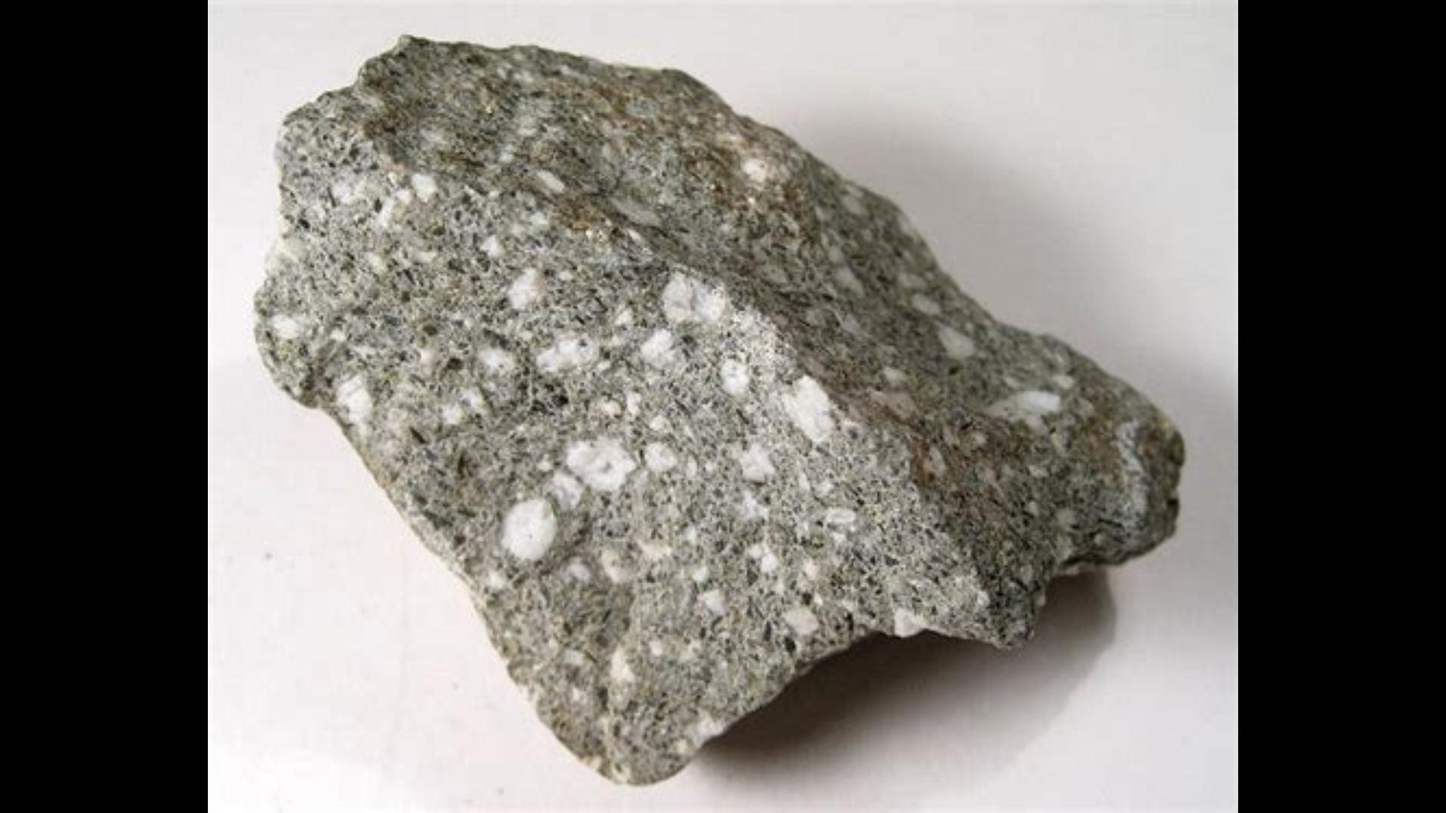rock: (256, 39, 1180, 774)
